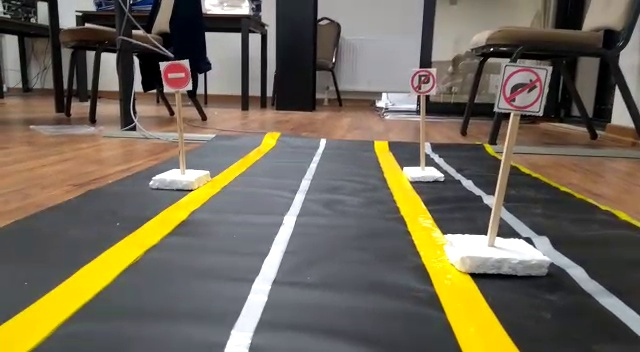girisi_olmayan_yol: (159, 58, 193, 92)
park_yapilmaz: (410, 69, 436, 94)
saga_donulmez: (502, 66, 546, 114)
